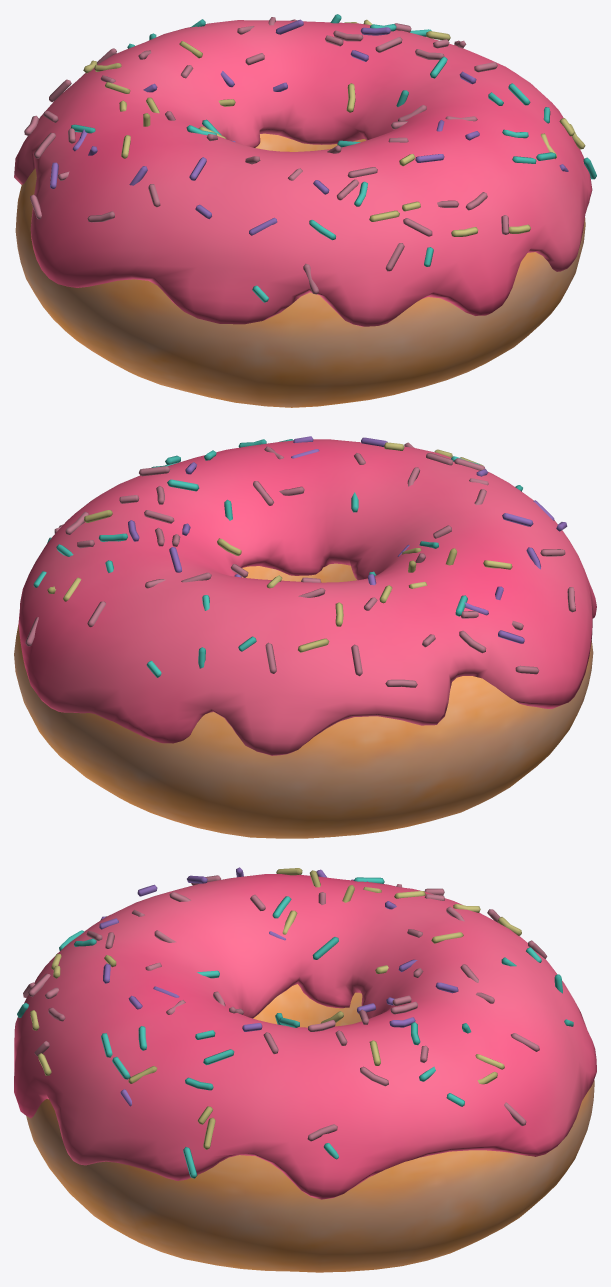
Rendered from donut-v1.glb.
The picture shows the model from 3 angles, top to bottom: view 1: azimuth 30°, elevation 25°; view 2: azimuth 150°, elevation 25°; view 3: azimuth 270°, elevation 25°; orthographic projection.
Parts seen in each view (by area): view 1: Donut_1; view 2: Donut_1; view 3: Donut_1.
Part boxes in pixels (box(x1,y1,x2,y2)): Donut_1: box(14, 14, 596, 407); Donut_1: box(14, 436, 596, 838); Donut_1: box(14, 867, 596, 1272).
Bounding box in the file's own units: 0.6884 × 0.3116 × 0.6714.
Materials: 1 (1 with a texture image).
